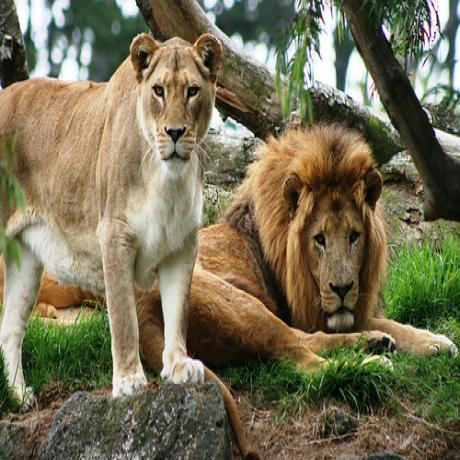Lion: (0, 35, 222, 410), (195, 129, 439, 388)
